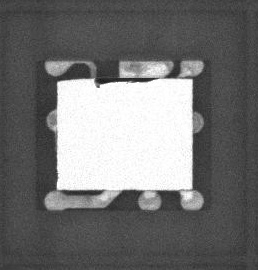DIE_BROKEN: (93, 75, 156, 87)
